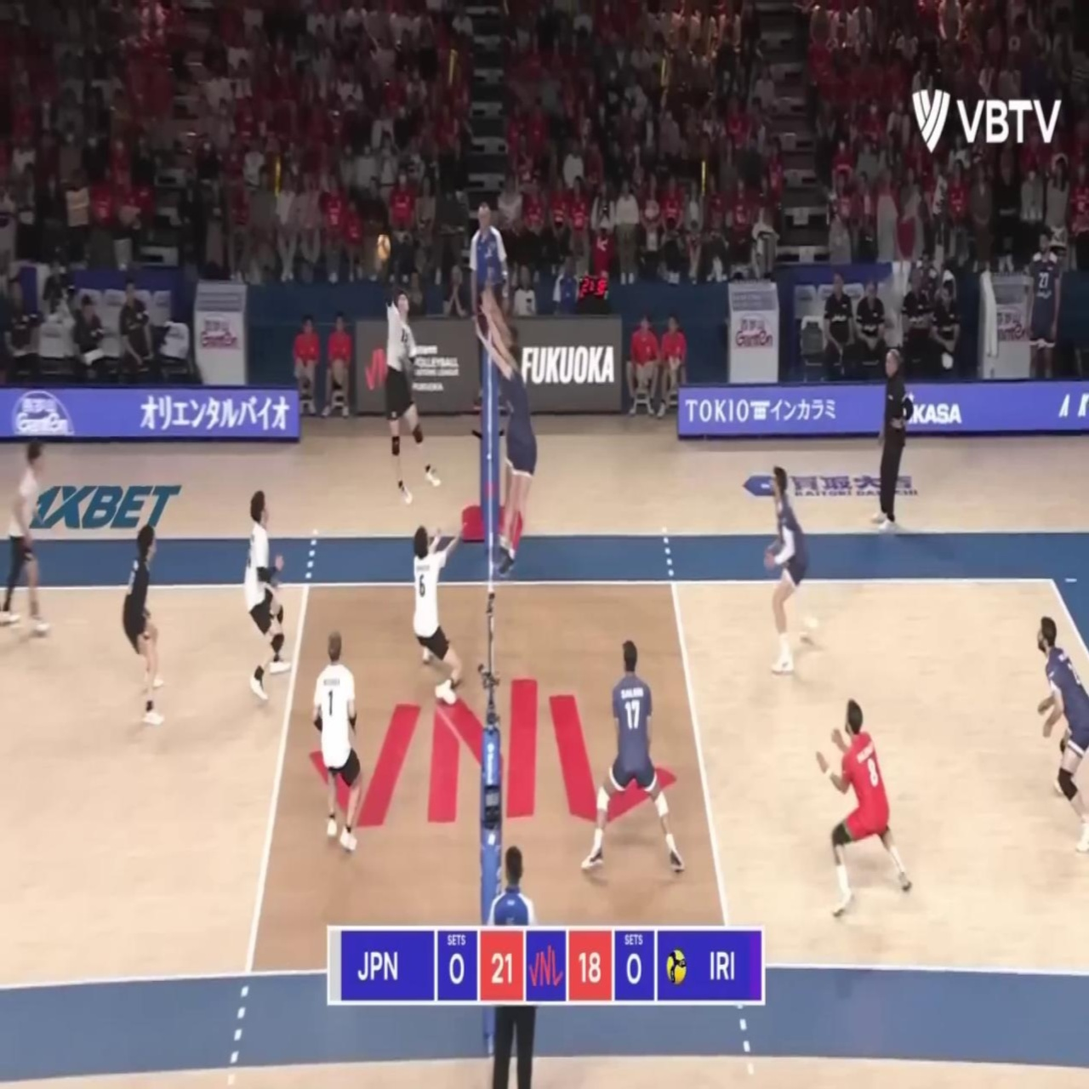ball: (376, 234, 389, 260)
